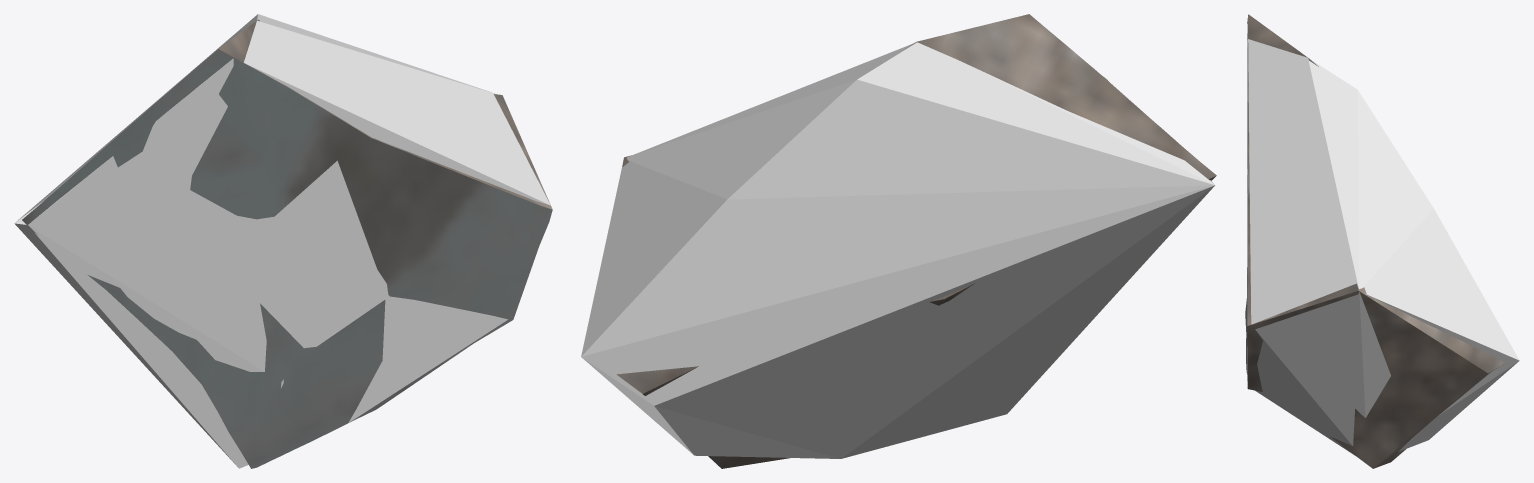
File: SM_Rock_54.fbx
The picture shows the model from 3 angles, left to right: view 1: azimuth 30°, elevation 25°; view 2: azimuth 150°, elevation 25°; view 3: azimuth 270°, elevation 25°; orthographic projection. The views are drawn at different scales.
Parts seen in each view (by area): view 1: SM_Rock_54_ConvexHulls, SM_Rock_54_LOD0; view 2: SM_Rock_54_ConvexHulls, SM_Rock_54_LOD0; view 3: SM_Rock_54_ConvexHulls, SM_Rock_54_LOD0.
Boxes of the visible parts, x1=… form: SM_Rock_54_ConvexHulls: x1=14, y1=14, x2=550, y2=468; SM_Rock_54_LOD0: x1=22, y1=19, x2=552, y2=468; SM_Rock_54_ConvexHulls: x1=581, y1=42, x2=1215, y2=458; SM_Rock_54_LOD0: x1=616, y1=14, x2=1216, y2=468; SM_Rock_54_ConvexHulls: x1=1247, y1=34, x2=1519, y2=455; SM_Rock_54_LOD0: x1=1245, y1=14, x2=1505, y2=468.
Bounding box in the file's own units: 32.92 × 18.27 × 26.51.
